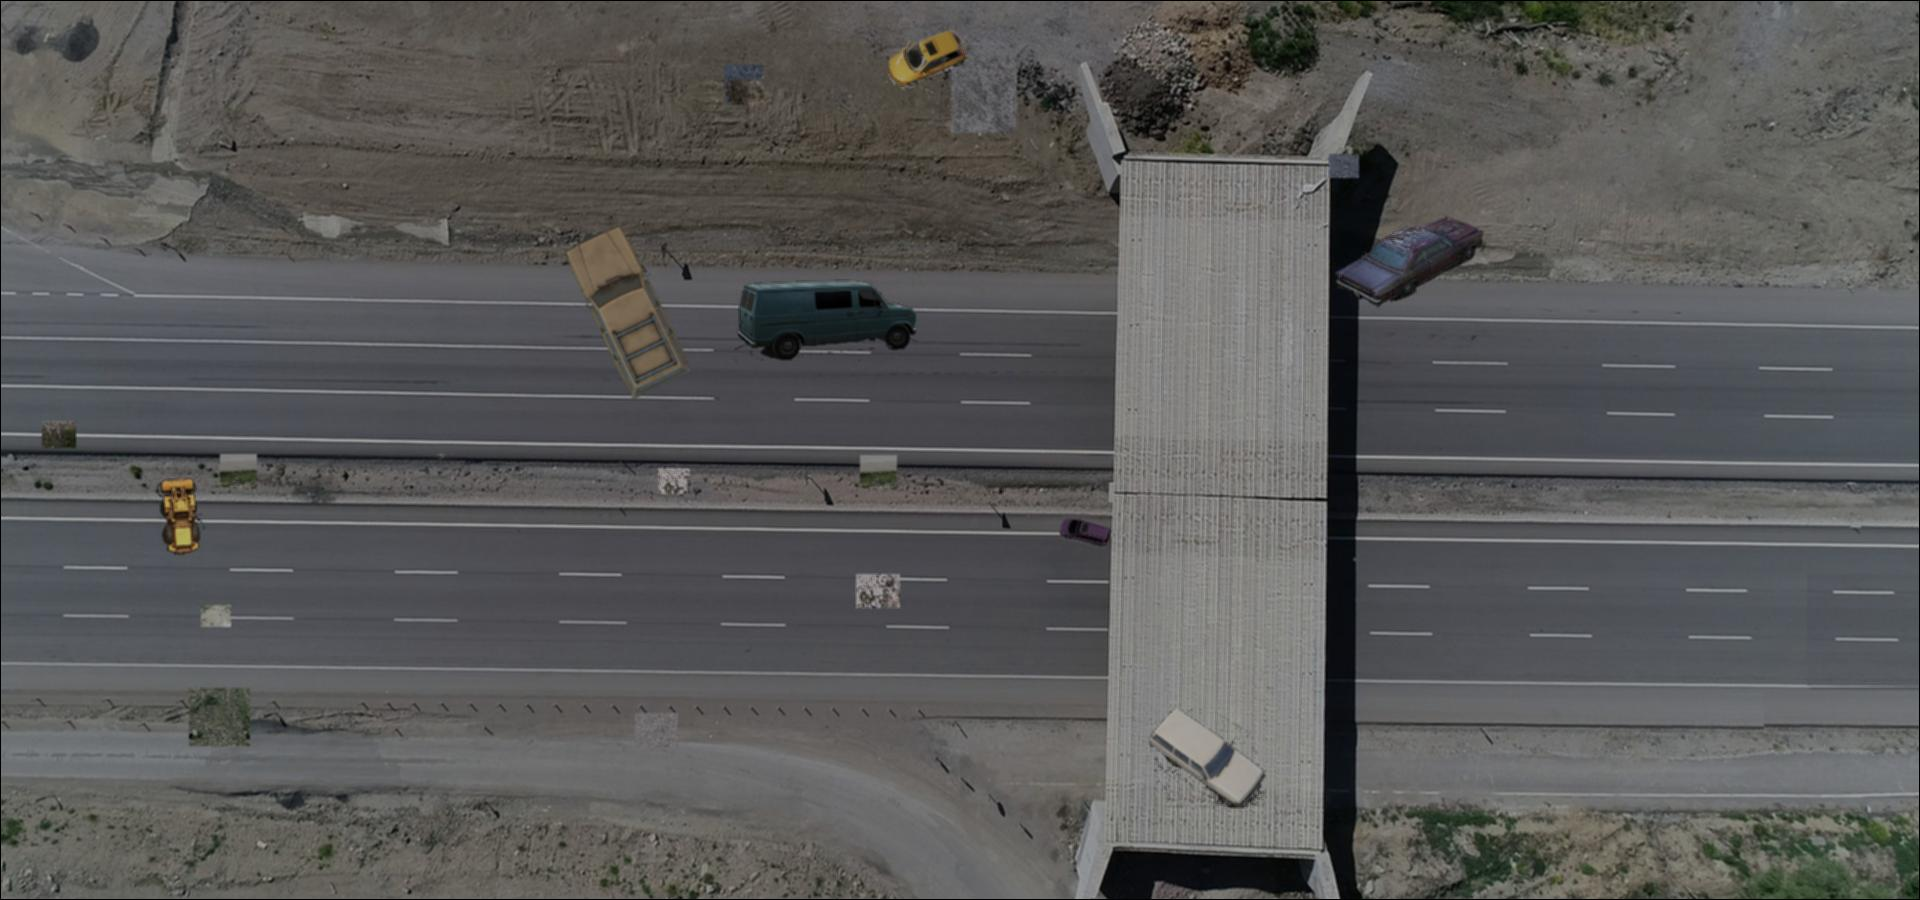arac: (560, 224, 693, 398), (735, 279, 918, 361), (1333, 216, 1487, 310), (1146, 709, 1266, 808), (889, 27, 969, 91), (156, 476, 211, 558), (1059, 516, 1112, 551)
